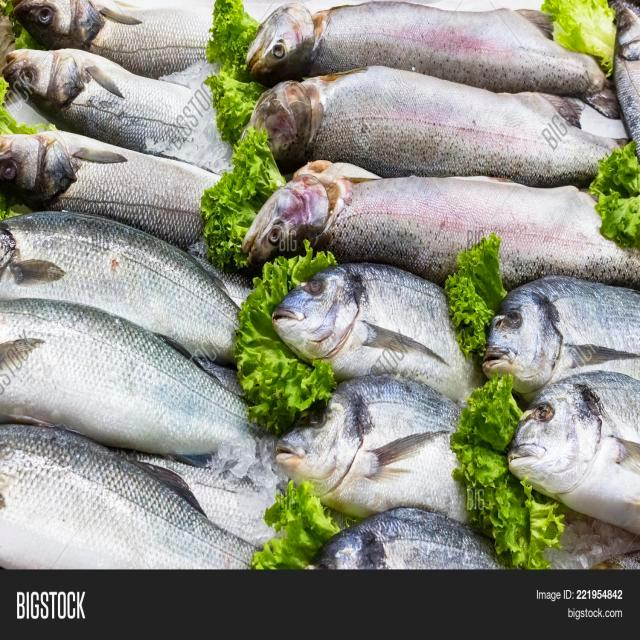fish: (241, 160, 639, 288), (245, 65, 625, 186), (246, 1, 619, 118), (0, 298, 252, 457), (0, 210, 245, 361), (0, 424, 253, 568), (272, 262, 481, 400), (274, 373, 467, 521), (0, 128, 219, 248), (507, 370, 639, 532), (3, 48, 210, 150), (482, 275, 639, 401), (14, 0, 211, 78)
